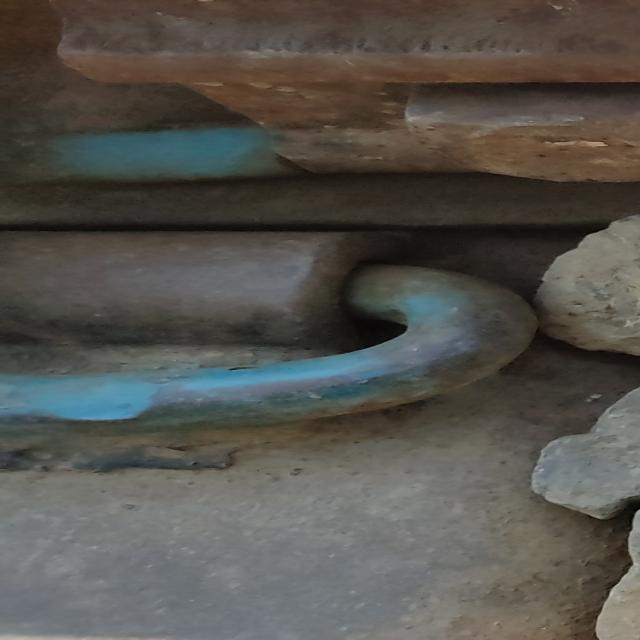track_bolt: (0, 125, 551, 437)
